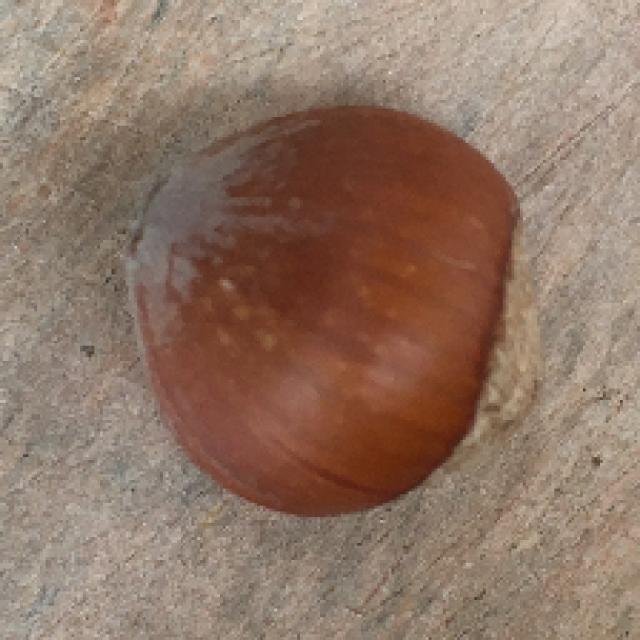hazelnut: (122, 99, 550, 521)
